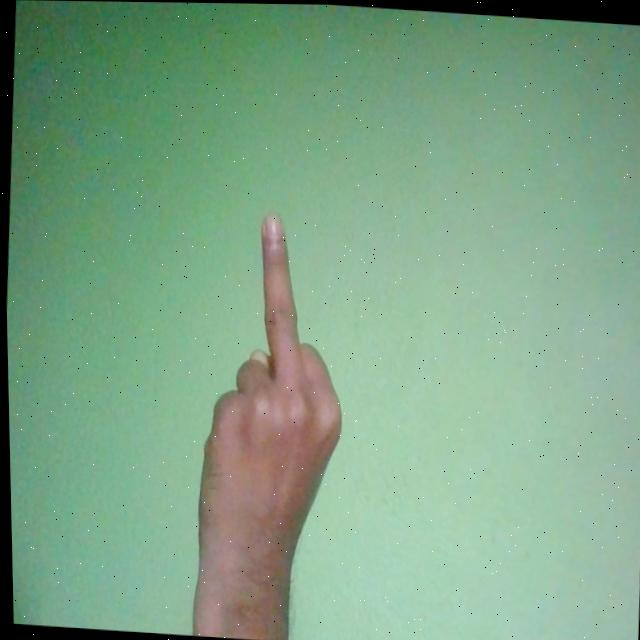Middle Finger: (185, 206, 354, 631)
